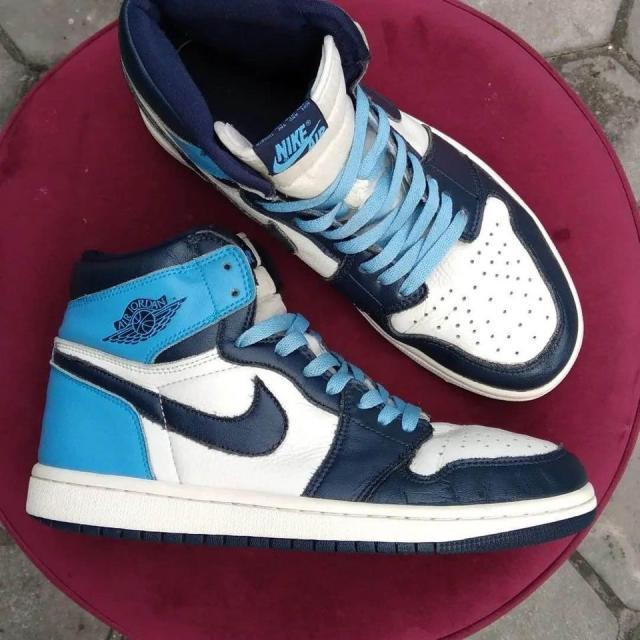nike fake jordan 1: (18, 225, 600, 557), (116, 0, 591, 404)
